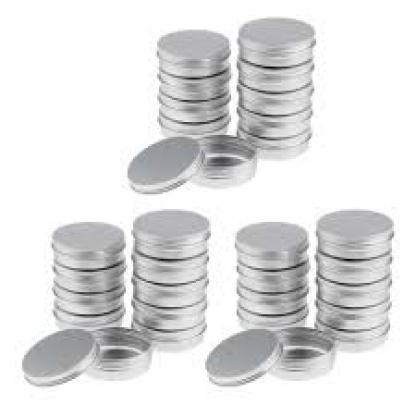METAL: (203, 326, 285, 384), (124, 135, 203, 192), (20, 329, 98, 383), (314, 207, 392, 257), (131, 209, 209, 259), (237, 15, 314, 65), (190, 131, 257, 185), (233, 220, 307, 268), (52, 220, 122, 270), (154, 30, 230, 76), (270, 324, 333, 376), (91, 326, 148, 376), (312, 249, 392, 283), (235, 59, 312, 91), (131, 274, 205, 307), (131, 251, 207, 283), (314, 296, 390, 327), (312, 318, 388, 348), (236, 83, 310, 113), (314, 276, 390, 305), (235, 303, 305, 333), (128, 298, 205, 325), (235, 263, 305, 292), (235, 285, 309, 312), (130, 320, 204, 347), (236, 130, 310, 157), (157, 72, 228, 100), (50, 263, 122, 290), (236, 107, 310, 133), (54, 285, 122, 312), (54, 309, 122, 336), (159, 94, 229, 120), (157, 113, 228, 137)
